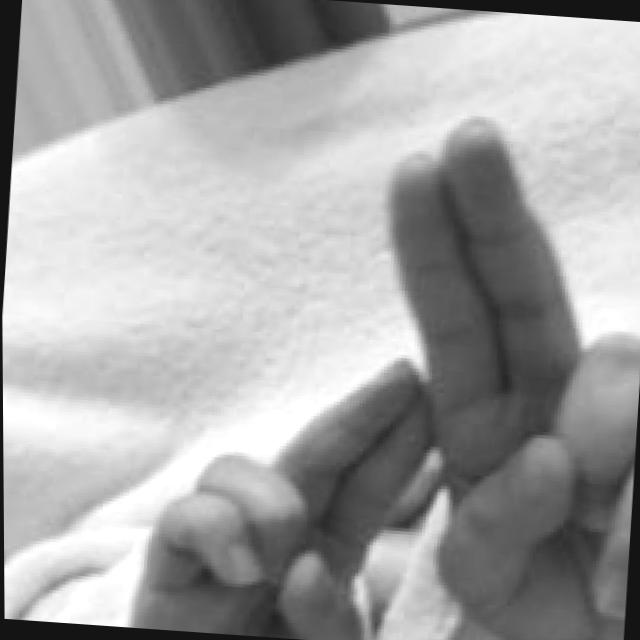K: (123, 77, 640, 640)
